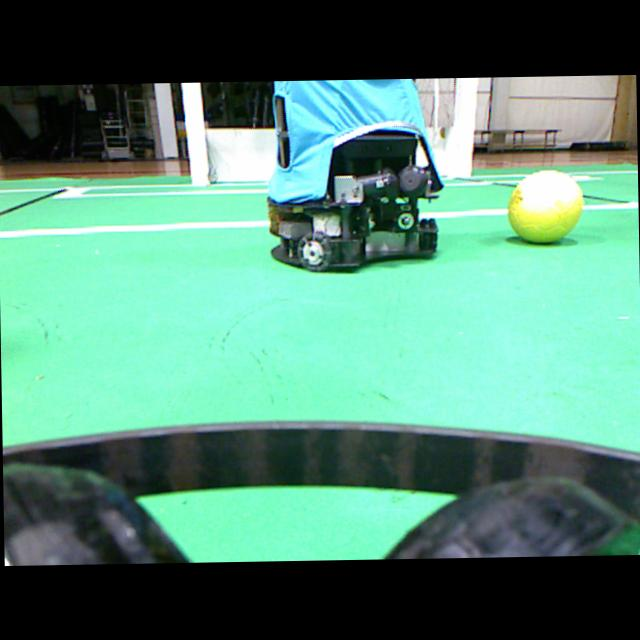ball: (507, 170, 582, 241)
goal: (181, 82, 208, 184), (451, 77, 477, 176)
